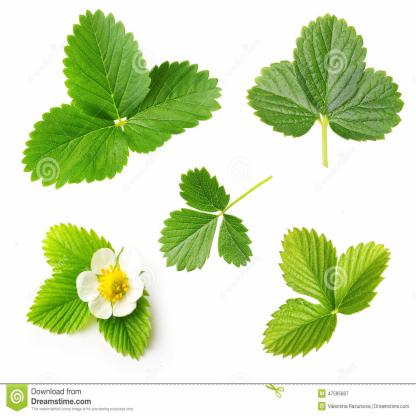strawberry leaf: (122, 50, 229, 158), (15, 93, 133, 190), (61, 4, 152, 120), (293, 12, 366, 116), (318, 61, 409, 139), (244, 58, 326, 140), (251, 293, 341, 362), (24, 266, 104, 336), (276, 229, 344, 309), (327, 239, 394, 317), (156, 204, 230, 272), (91, 284, 155, 361), (39, 224, 121, 280), (175, 164, 227, 216), (214, 212, 257, 272)
